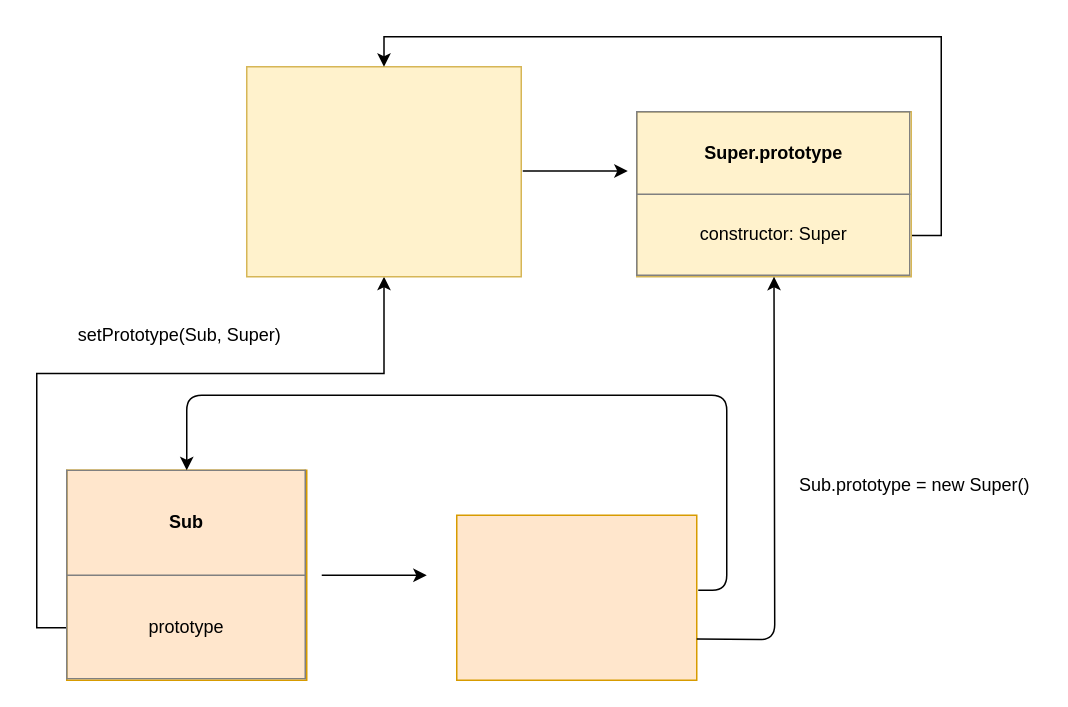
This 1068x707 diagram has some shape labels left out. The centre of each missing label's shape, as x and y in pixels:
"Sub .prototype constructor: Sub __proto__" goes at point (576, 597).
"Super prototype" goes at point (383, 171).
